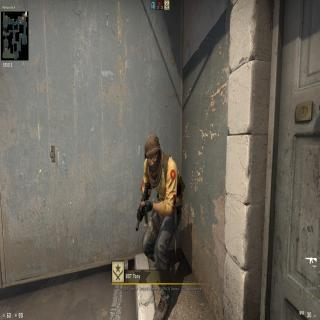T-Head: (144, 131, 164, 176)
